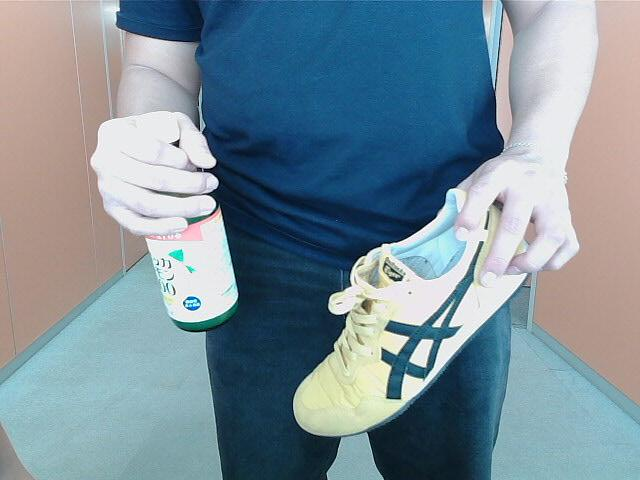Lemon_sapporo: (136, 108, 240, 333)
Shoes: (292, 182, 540, 441)
